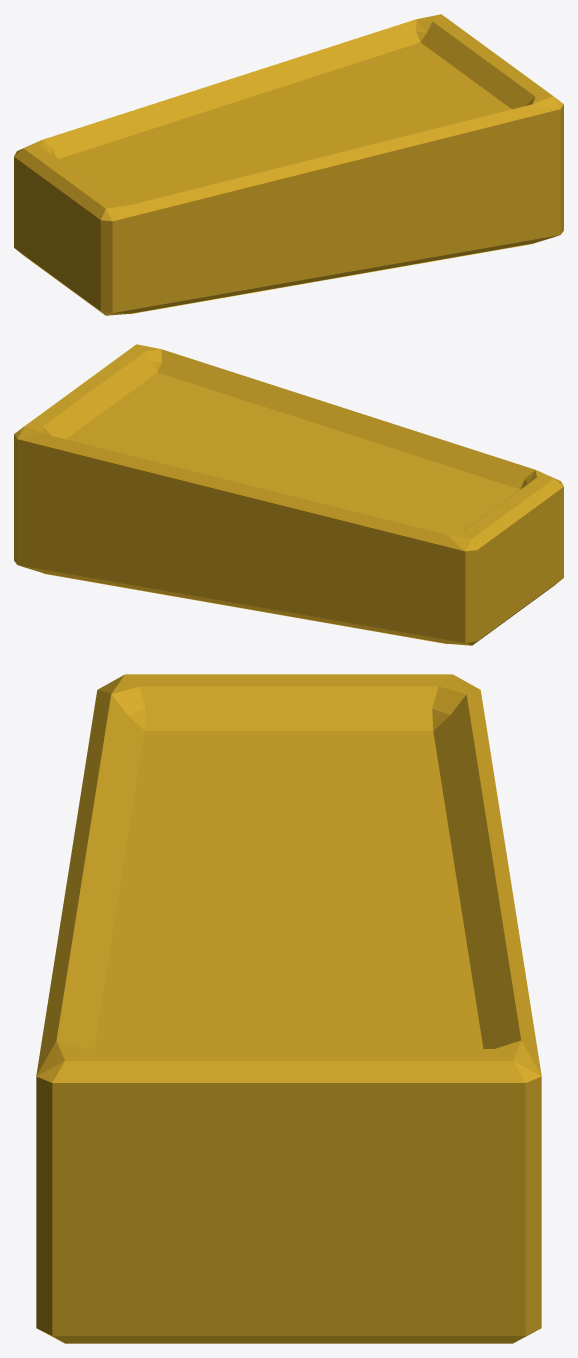
File: VIS_HandInterfaceBase.dae
The picture shows the model from 3 angles, top to bottom: view 1: azimuth 30°, elevation 25°; view 2: azimuth 150°, elevation 25°; view 3: azimuth 270°, elevation 25°; orthographic projection. The views are drawn at different scales.
Visible parts, largest first — view 1: VIS_HandInterfaceBase; view 2: VIS_HandInterfaceBase; view 3: VIS_HandInterfaceBase.
Part boxes in pixels (<box>): VIS_HandInterfaceBase: <box>14,14,563,315</box>; VIS_HandInterfaceBase: <box>14,344,563,645</box>; VIS_HandInterfaceBase: <box>36,674,541,1343</box>.
Size of the model in its own units: 0.0597 by 0.0292 by 0.018.
